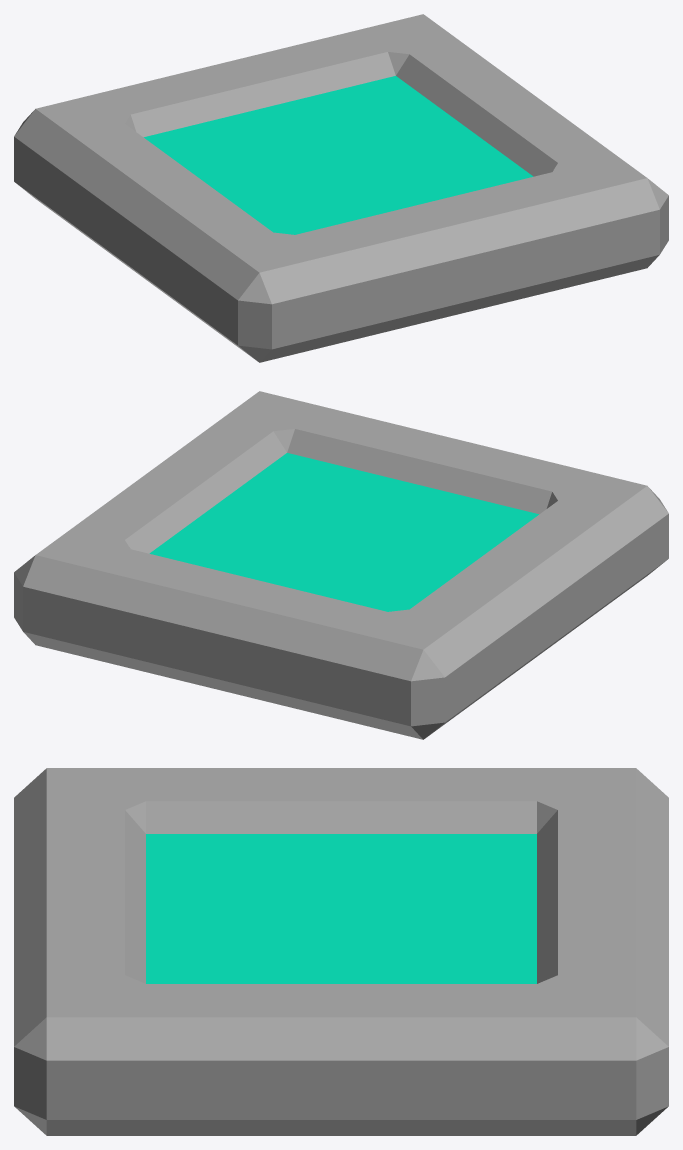
The model's file is hologram_pad.fbx.
3 renders of one model, top to bottom at view 1: azimuth 30°, elevation 25°; view 2: azimuth 150°, elevation 25°; view 3: azimuth 270°, elevation 25°, orthographic. The views are drawn at different scales.
Visible parts, largest first — view 1: pCube44; view 2: pCube44; view 3: pCube44.
Part boxes in pixels (x1=…): pCube44: x1=14, y1=14, x2=668, y2=362; pCube44: x1=14, y1=391, x2=668, y2=739; pCube44: x1=14, y1=768, x2=668, y2=1135.
Bounding box in the file's own units: 1 × 0.2 × 1.
